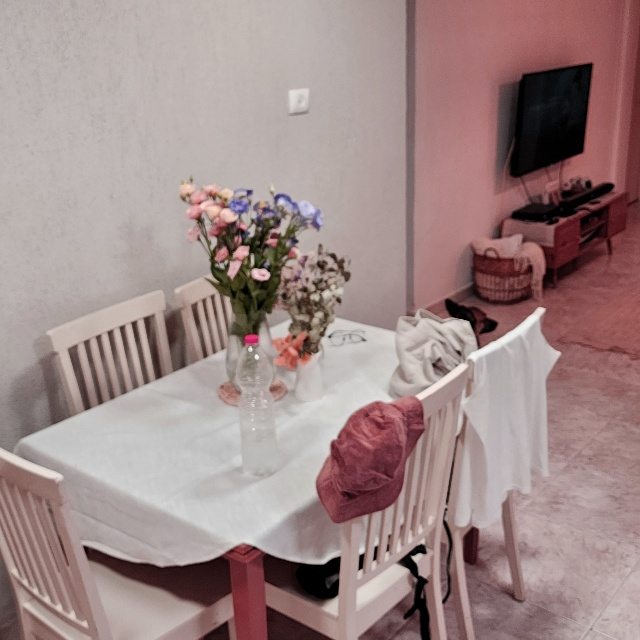glasses: (327, 323, 371, 345)
